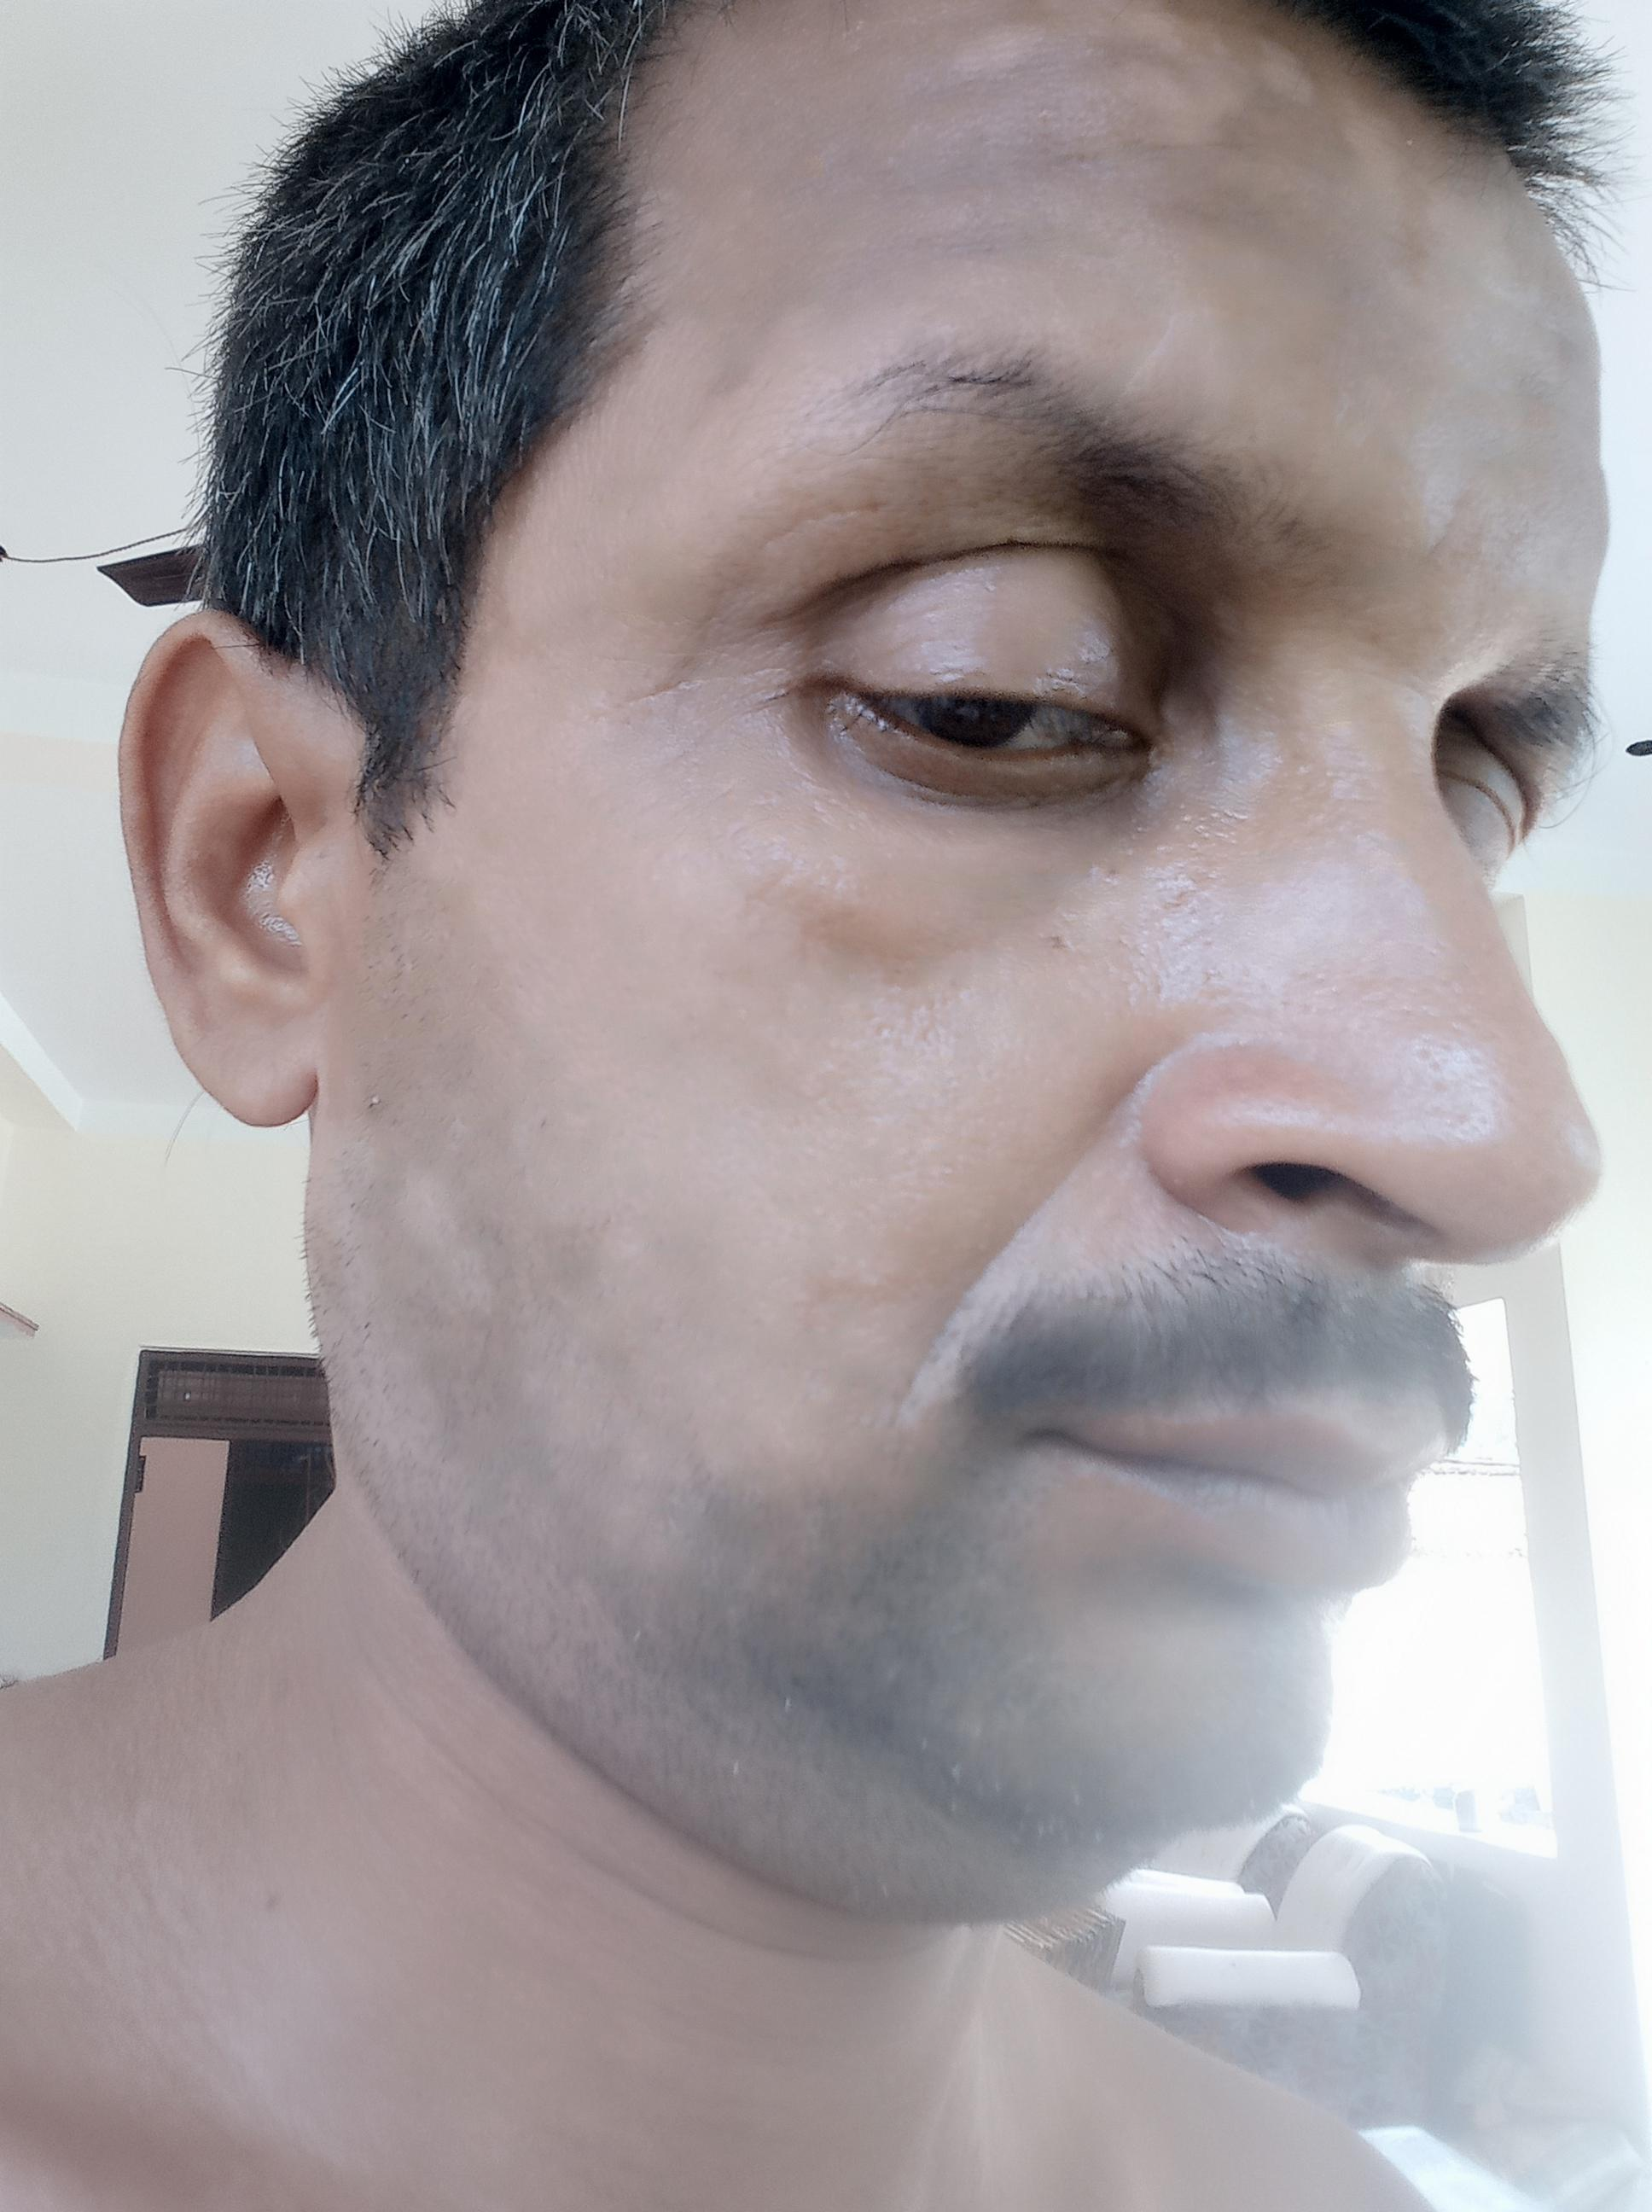Englarged-Pores: (791, 961, 1017, 1254), (1121, 855, 1218, 1001), (1407, 1020, 1501, 1143)
Wrinkles: (866, 1060, 1154, 1435), (939, 45, 1203, 83), (845, 224, 1046, 265), (1067, 128, 1265, 170), (1102, 307, 1175, 408), (576, 671, 711, 718), (732, 848, 800, 921), (651, 718, 731, 776), (1409, 491, 1468, 566), (1354, 652, 1444, 701)
